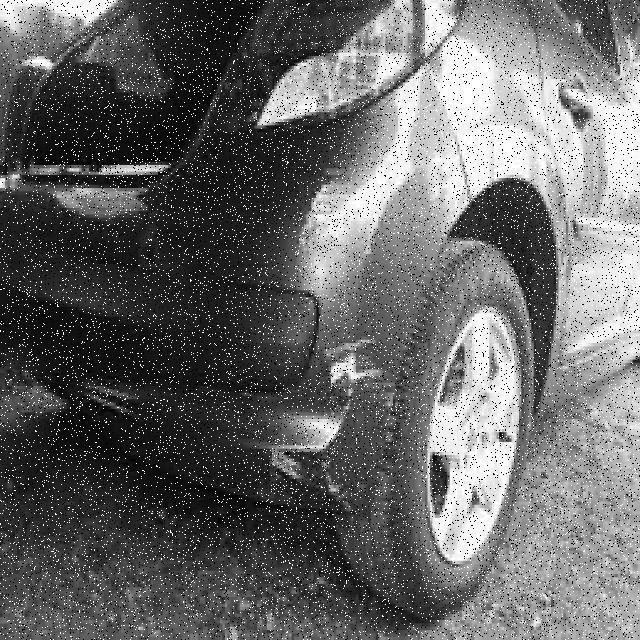rear-bumper-dent: (0, 143, 454, 532)
